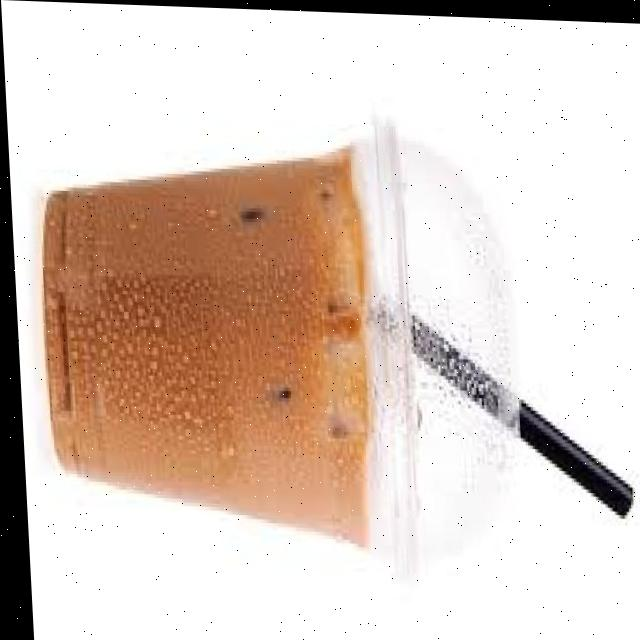cup: (40, 150, 365, 543)
